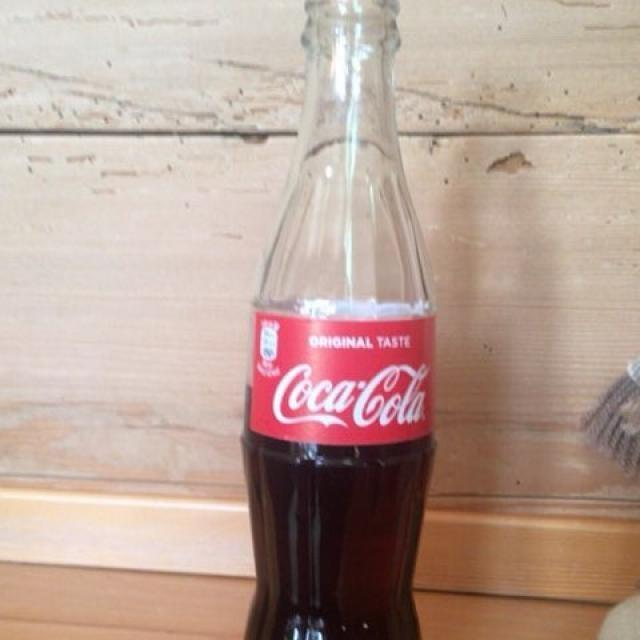coca-cola: (245, 298, 438, 629)
